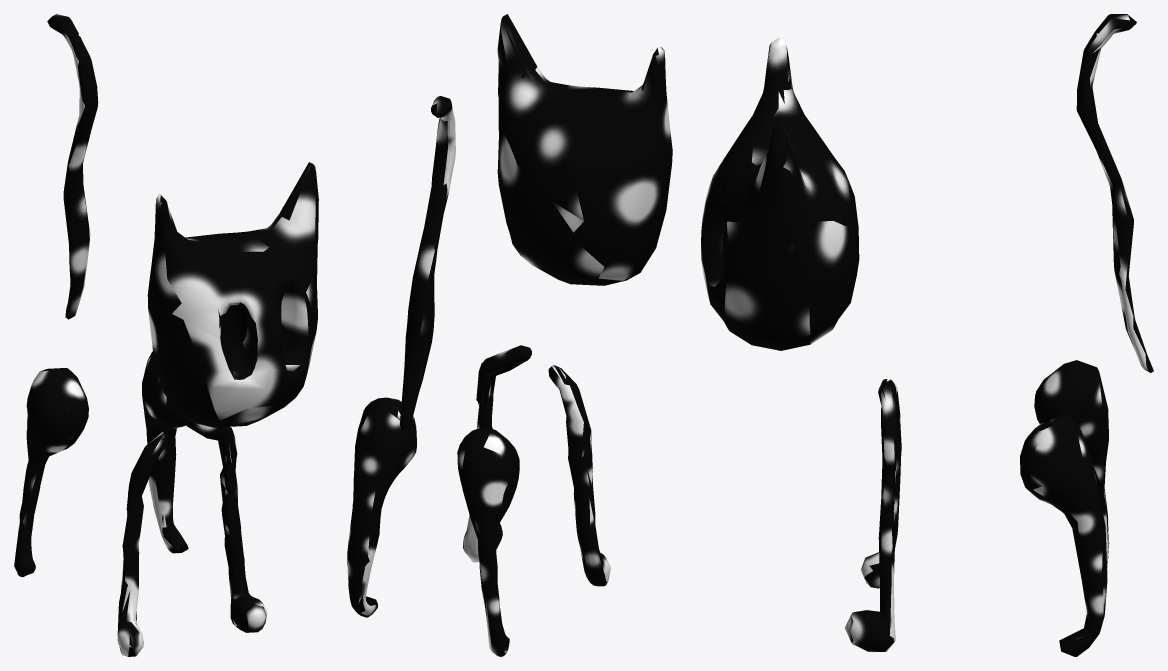
Rendered from ch1_cat.glb.
The picture shows the model from 3 angles, left to right: view 1: azimuth 30°, elevation 25°; view 2: azimuth 150°, elevation 25°; view 3: azimuth 270°, elevation 25°; orthographic projection. The views are drawn at different scales.
Visible parts, largest first — view 1: _h1, _r13, _r11, _b11, _r12, _b12; view 2: _h1, _r12, _r13, _r11, _b12, _b11; view 3: _h1, _r12, _r11, _b11, _r13, _b12.
Part boxes in pixels (<box>): _h1: <box>147,162,318,427</box>; _r13: <box>14,368,88,577</box>; _r11: <box>47,14,98,319</box>; _b11: <box>183,419,267,632</box>; _r12: <box>142,351,188,553</box>; _b12: <box>117,432,168,656</box>; _h1: <box>497,14,672,285</box>; _r12: <box>347,397,416,617</box>; _r13: <box>457,427,519,656</box>; _r11: <box>400,96,455,430</box>; _b12: <box>548,365,610,586</box>; _b11: <box>463,345,531,562</box>; _h1: <box>701,38,859,350</box>; _r12: <box>1020,413,1107,656</box>; _r11: <box>1076,14,1153,372</box>; _b11: <box>844,381,898,652</box>; _r13: <box>1034,360,1109,569</box>; _b12: <box>861,379,901,588</box>.
Bounding box in the file's own units: 0.4727 × 1.46 × 1.
Materials: 1 (1 with a texture image).
